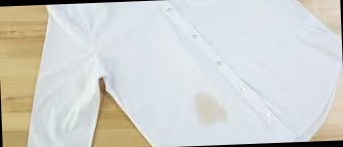coffee: (191, 91, 228, 126)
